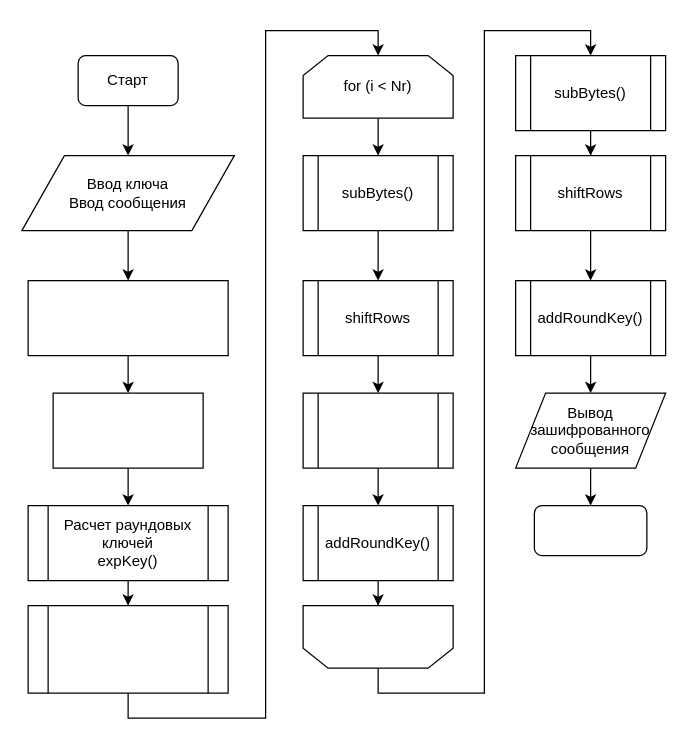
This 688x750 diagram has some shape labels left out. Each missing label, with the box of its shape:
mixColums: (302, 392, 453, 468)
Nr = 10||12||14 Nb = 4: (52, 392, 203, 468)
Добавление раундового ключа к сообщению addroundKey(): (27, 604, 228, 693)
Создание матрицы из строки stateInput stateKey: (27, 279, 228, 356)
Стоп: (533, 504, 647, 556)
